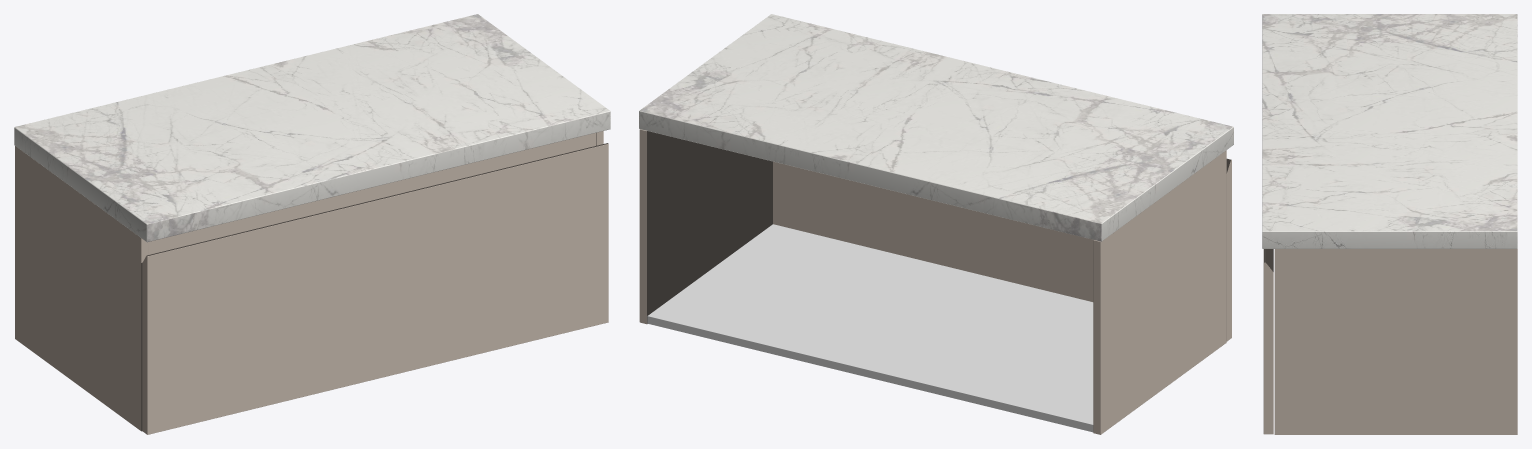
3 renders of one model, left to right at view 1: azimuth 30°, elevation 25°; view 2: azimuth 150°, elevation 25°; view 3: azimuth 270°, elevation 25°, orthographic. The views are drawn at different scales.
Visible parts, largest first — view 1: VX01; view 2: VX01; view 3: VX01.
Part boxes in pixels (x1,y1,x2,y2): VX01: (14, 14, 610, 434); VX01: (639, 14, 1233, 434); VX01: (1262, 14, 1517, 434).
Size of the model in its own units: 1 by 0.437 by 0.496.
Materials: 4 (1 with a texture image).
